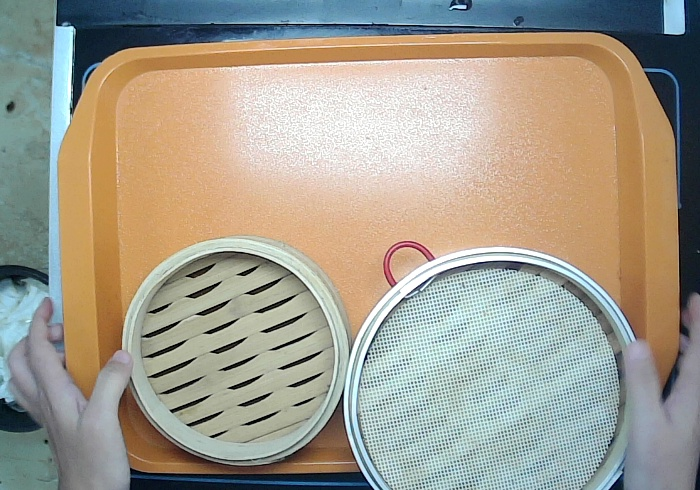ZNLD-Da_Zheng_Long: (341, 237, 649, 490)
ZNLD-Xiao_Zheng_Long: (118, 231, 358, 471)
